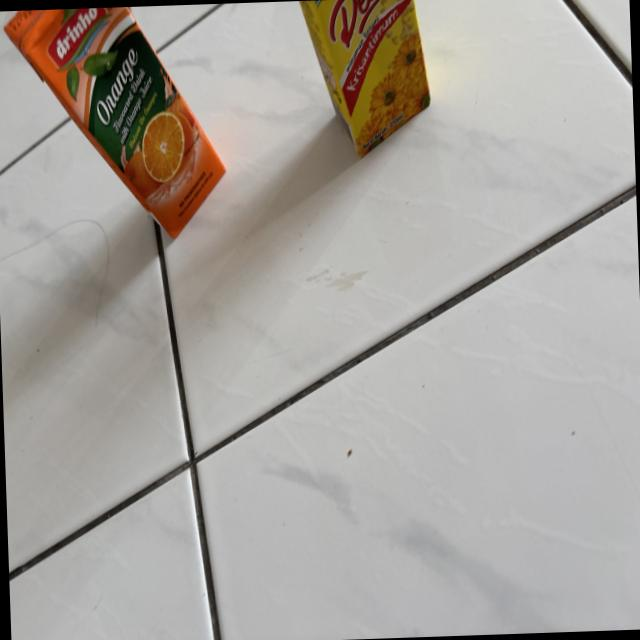drink_carton: (0, 4, 236, 256), (289, 0, 444, 166)
